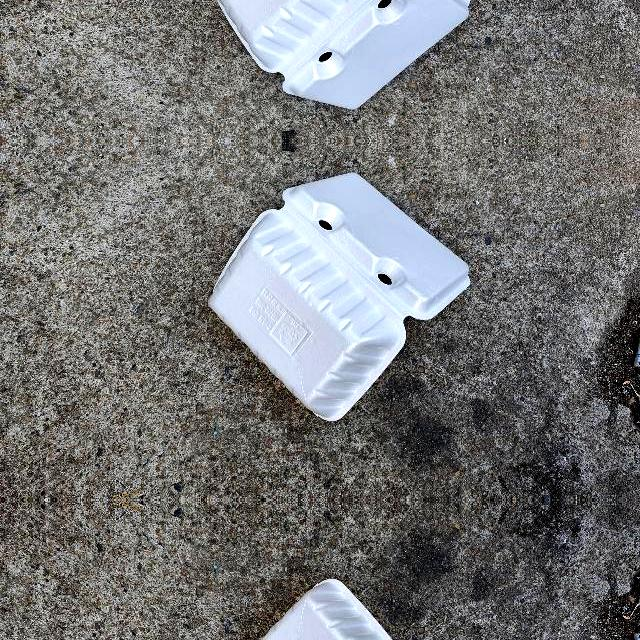Styrofoam: (207, 171, 471, 421), (209, 171, 470, 420), (207, 0, 471, 109), (217, 0, 470, 109), (207, 577, 471, 640)
